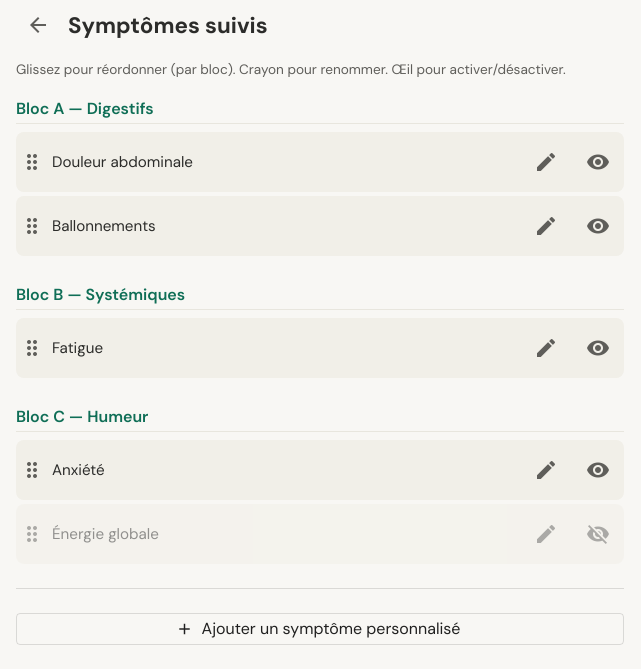
Test: SymptomsConfigComponent › clic edit → affiche input de renommage pré-rempli
This screenshot has width=641, height=669.
Click the button with test id "edit-abdominal_pain" at (546, 162), box x1=524 y1=140 x2=568 y2=184
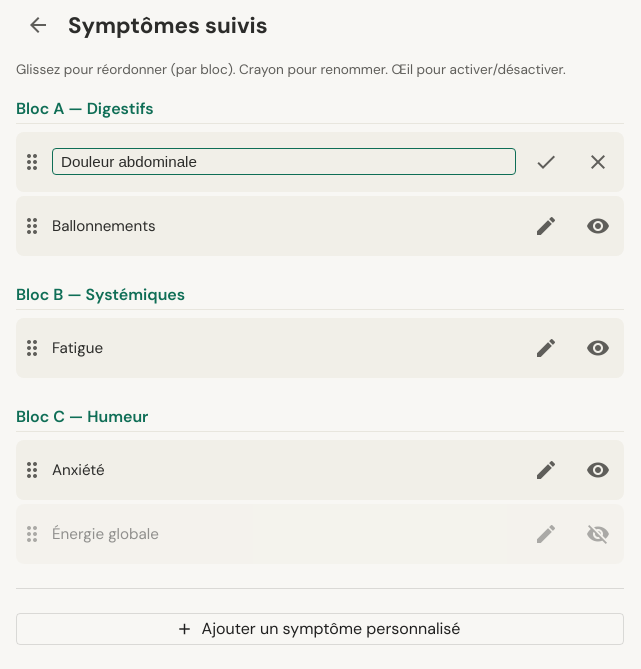
Check: the field with test id "edit-label-abdominal_pain" is shown, box x1=52 y1=148 x2=516 y2=175
